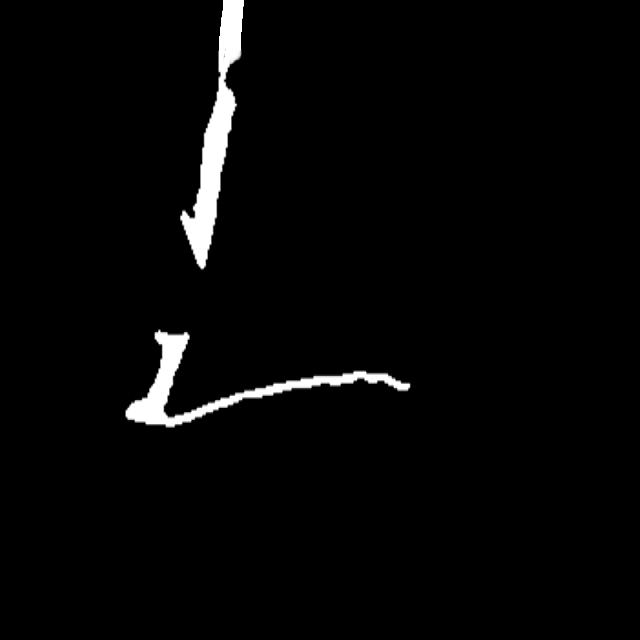sl: (208, 47, 246, 114)
